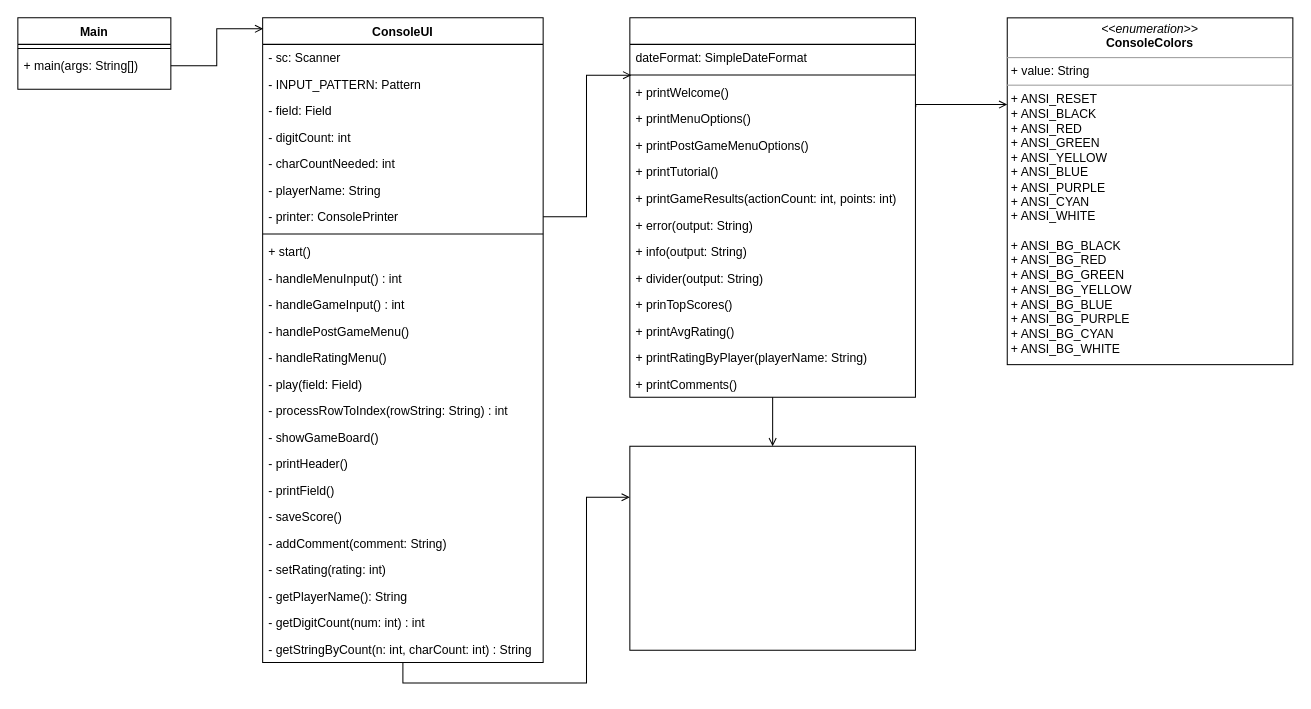
Some shapes in this 1311 by 709 pixel diagram are drawn without their labels. The box of each missing label's shape, as (x1, y1, x2, y2) in pixels:
ConsolePrinter: (629, 17, 915, 397)
Services: (629, 445, 915, 650)
